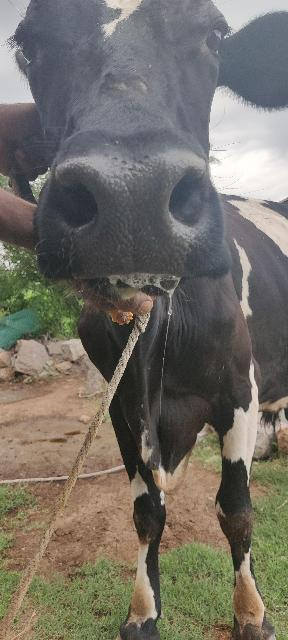Muzzle: (70, 158, 186, 276)
